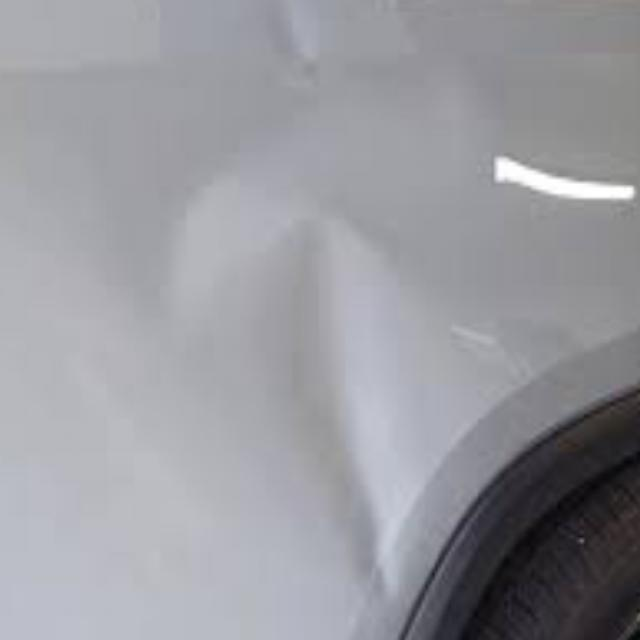dents: (221, 204, 446, 618)
